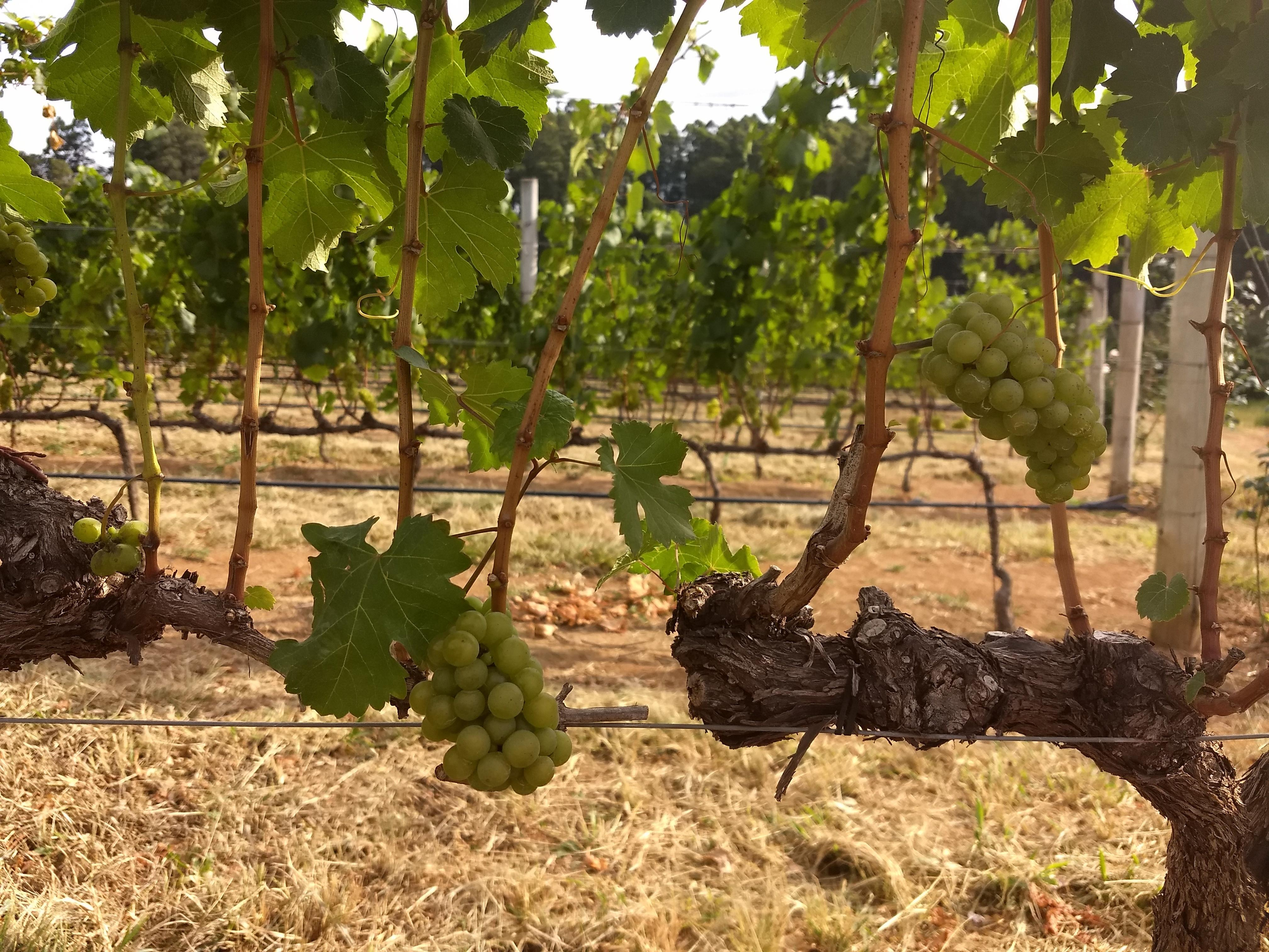leaf: (269, 515, 470, 716), (1105, 33, 1236, 165), (415, 153, 518, 318), (984, 121, 1111, 223), (599, 420, 694, 549), (596, 518, 759, 589), (1054, 0, 1137, 121), (296, 33, 387, 121), (0, 116, 69, 223), (442, 94, 530, 168), (207, 0, 259, 90), (273, 0, 338, 52), (1222, 15, 1268, 88), (586, 0, 674, 37), (530, 389, 575, 458), (1136, 571, 1190, 622), (491, 398, 527, 463), (375, 214, 402, 279)
